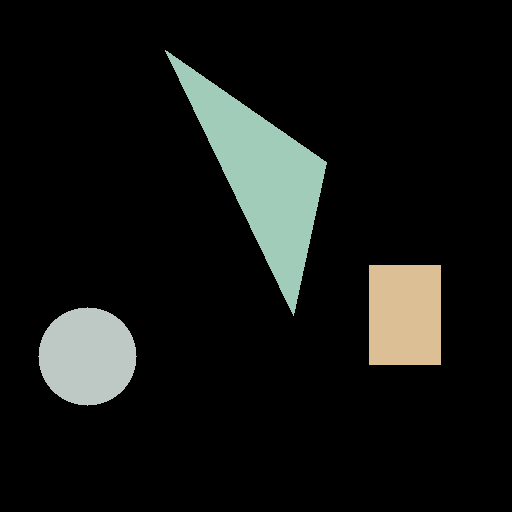circle: (38, 307, 136, 405)
rectangle: (369, 265, 440, 364)
triangle: (165, 50, 326, 315)
